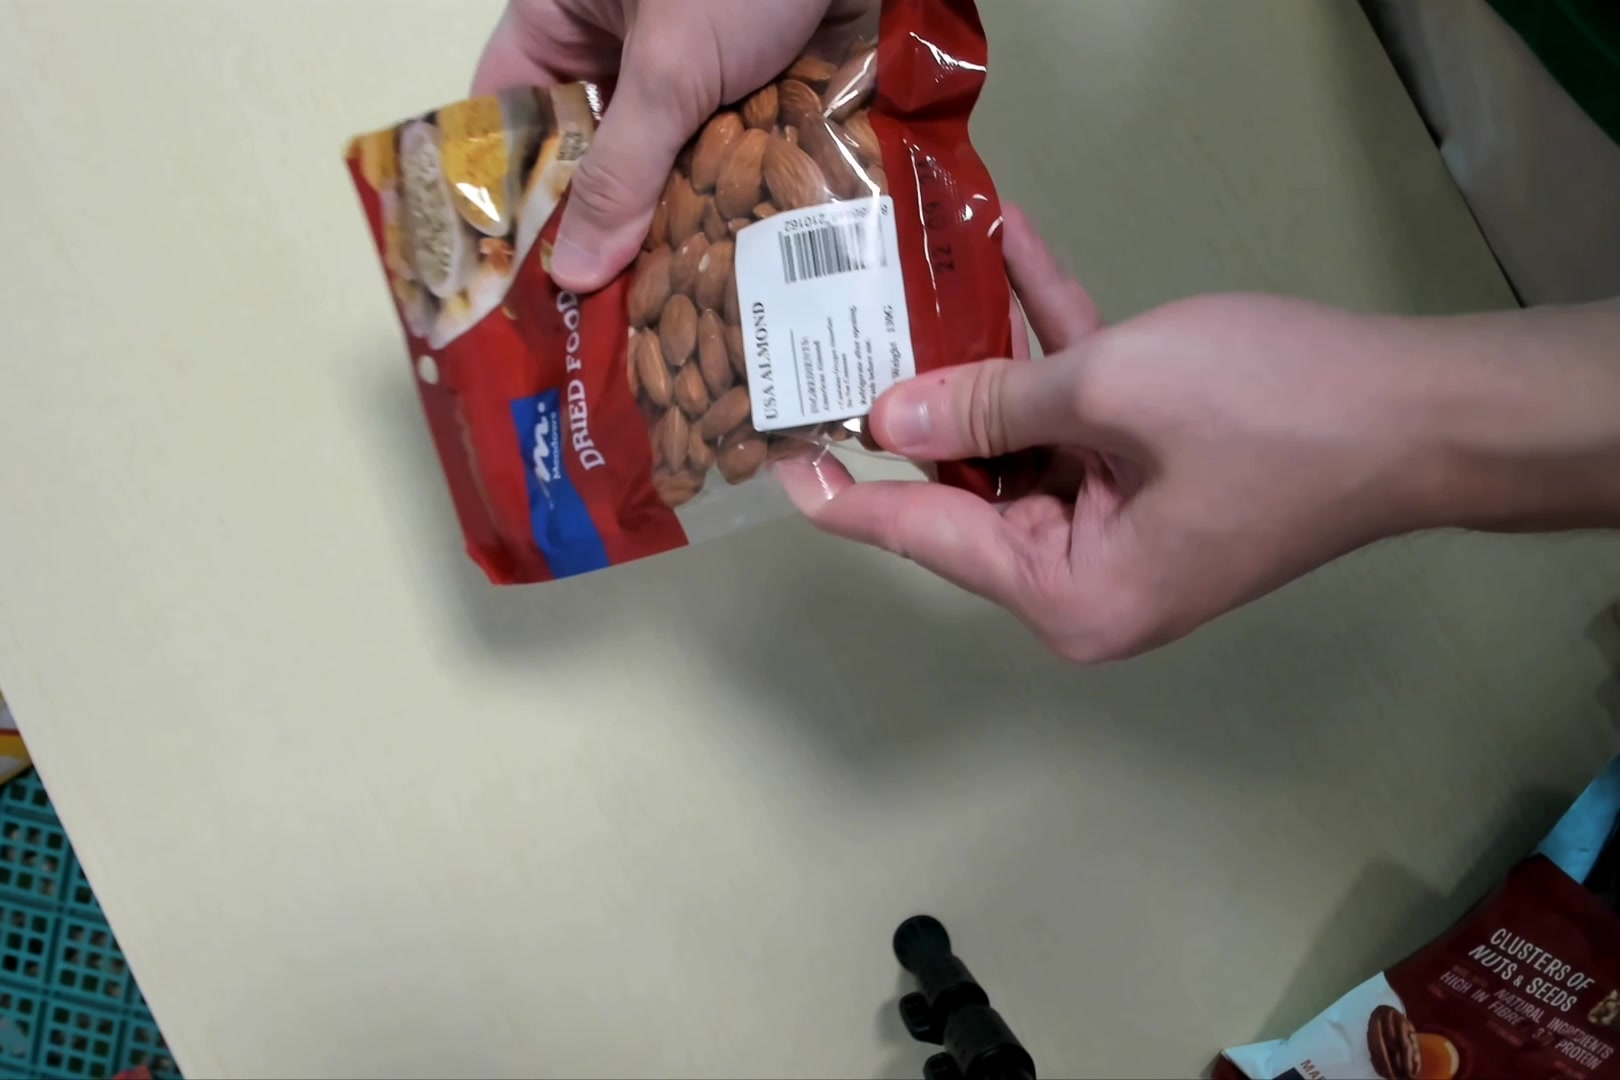Nuts_100-199g_NonHalal_NonHealthy: (350, 17, 1019, 579)
